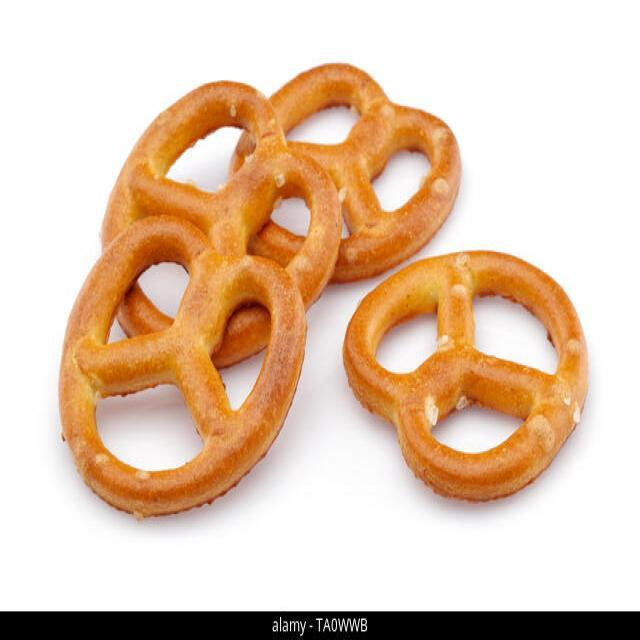Salatini: (56, 60, 591, 518)
